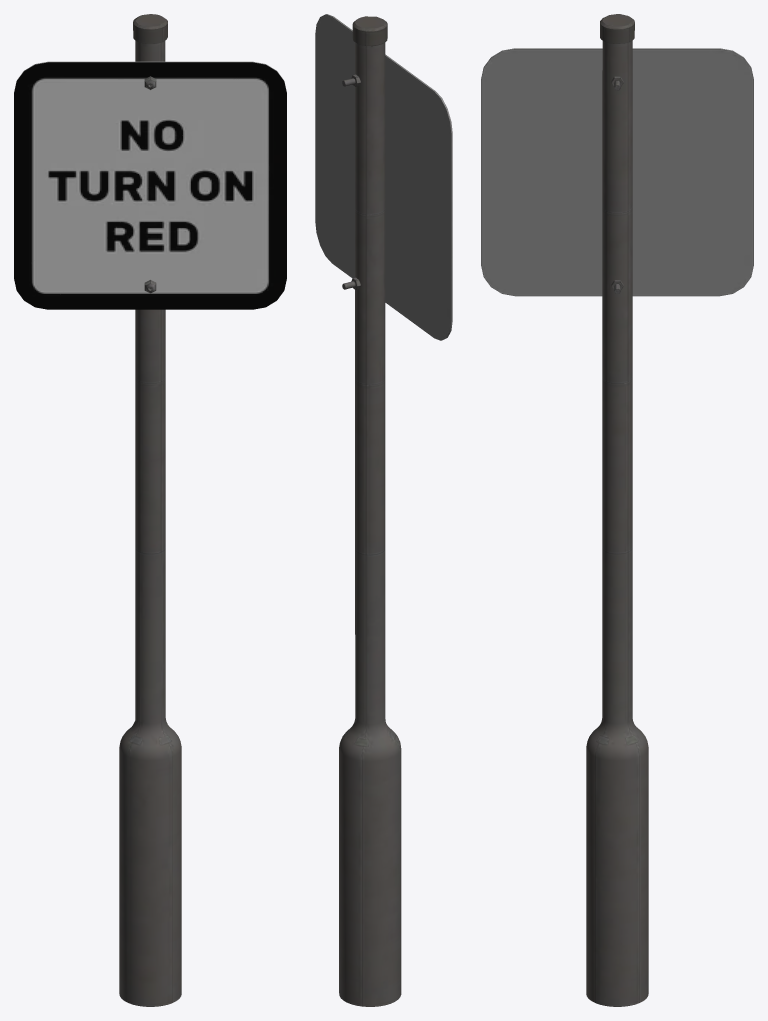
Rendered from sign-sqare.glb.
3 views of the same model, side by side, from view 1: azimuth 90°, elevation 25°; view 2: azimuth 210°, elevation 25°; view 3: azimuth 270°, elevation 25° (orthographic).
Parts seen in each view (by area): view 1: Sqare; view 2: Sqare; view 3: Sqare.
Part boxes in pixels (x1,y1,x2,y2): Sqare: (14,14,286,1006); Sqare: (315,14,452,1006); Sqare: (481,14,753,1006).
Bounding box in the file's own units: 18.29 × 315 × 79.99.
Materials: 1 (1 with a texture image).
